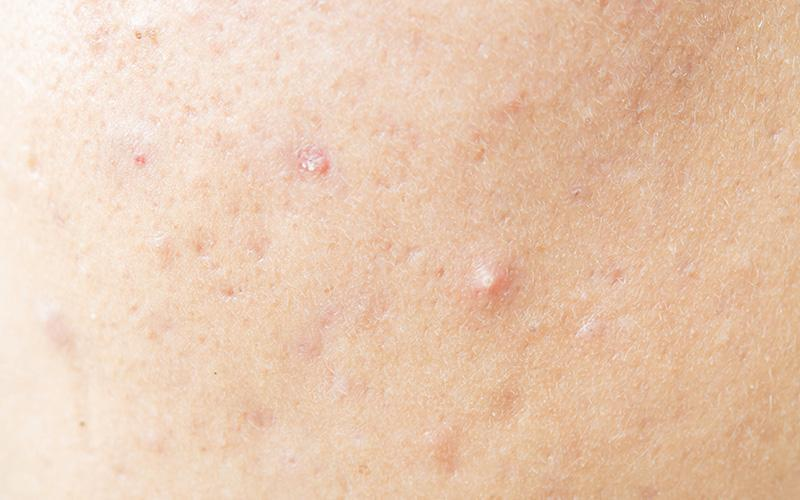purulent: (472, 259, 513, 310), (520, 314, 557, 350), (69, 408, 105, 445)
